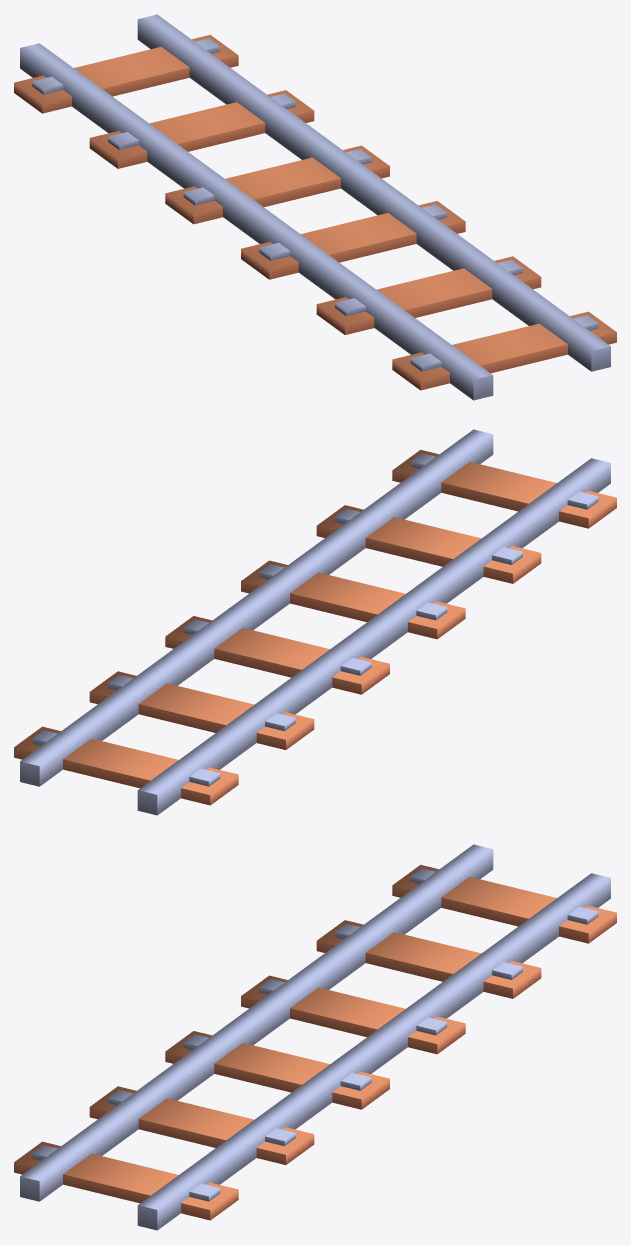
The model's file is railroad-straight.glb.
The picture shows the model from 3 angles, top to bottom: view 1: azimuth 30°, elevation 25°; view 2: azimuth 150°, elevation 25°; view 3: azimuth 330°, elevation 25°; orthographic projection.
Visible parts, largest first — view 1: railroad-straight; view 2: railroad-straight; view 3: railroad-straight.
Part boxes in pixels (x1,y1,x2,y2): railroad-straight: [14, 14, 616, 400]; railroad-straight: [14, 429, 616, 815]; railroad-straight: [14, 844, 616, 1230].
Size of the model in its own units: 1 by 0.1001 by 4.
1 material, 1 textured.
